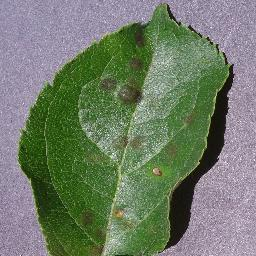apple healthy: (16, 2, 233, 255)
